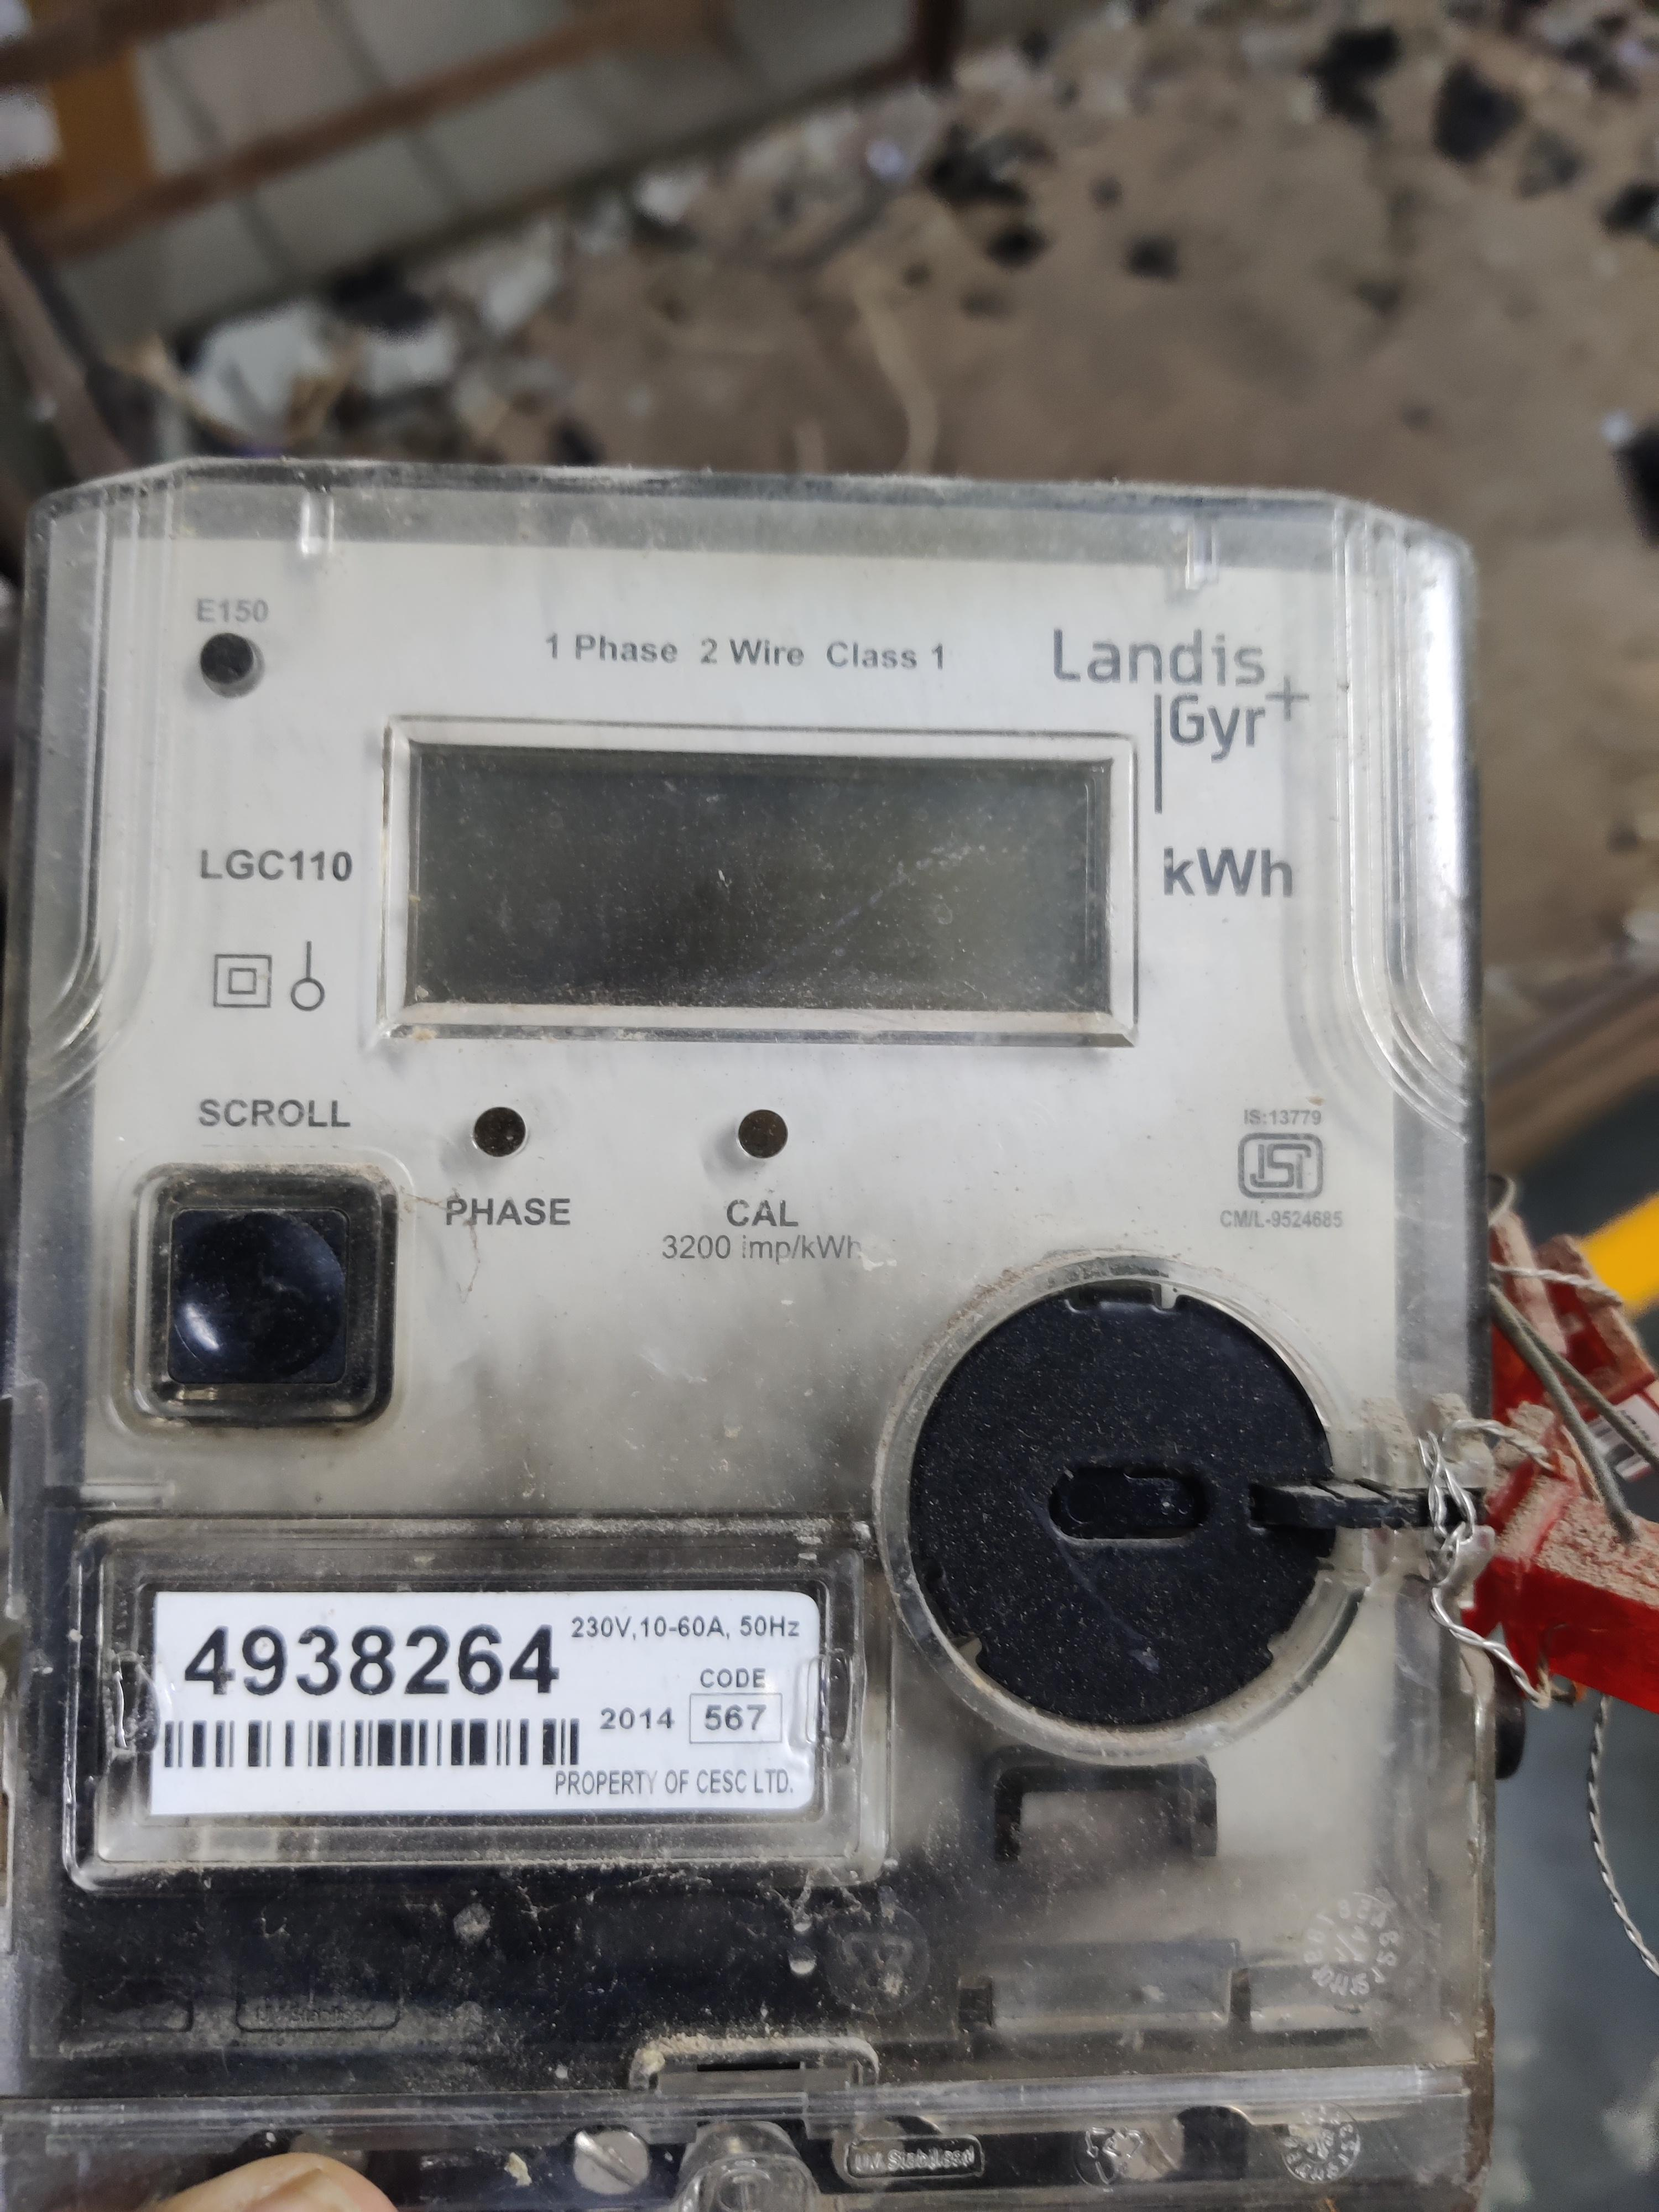meter_readings: (423, 751, 1112, 1005)
serial_number: (178, 1604, 566, 1707)
